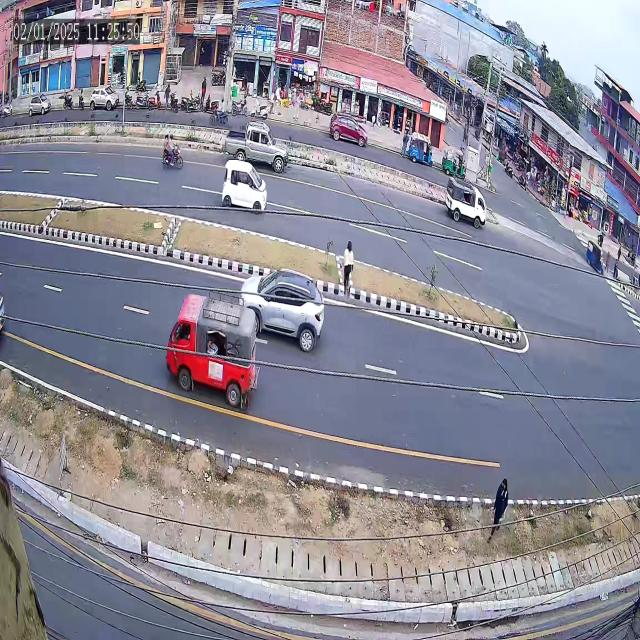car: (157, 279, 264, 417), (237, 246, 333, 357), (216, 160, 272, 220)
motorcycle: (158, 125, 192, 183)
van: (438, 170, 492, 238)
